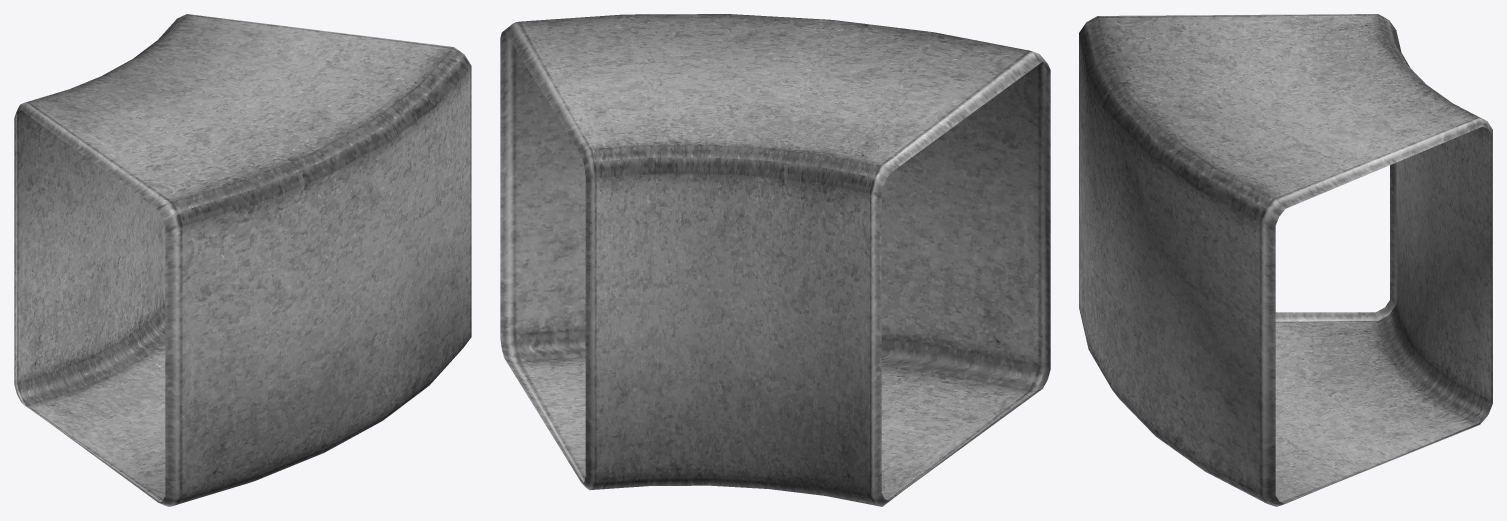
File: vent_shaft_exterior_turn_45.dae
3 renders of one model, left to right at view 1: azimuth 30°, elevation 25°; view 2: azimuth 150°, elevation 25°; view 3: azimuth 270°, elevation 25°, orthographic. The views are drawn at different scales.
Parts seen in each view (by area): view 1: turn_45; view 2: turn_45; view 3: turn_45.
Part boxes in pixels (x1,y1,x2,y2): turn_45: [14, 14, 471, 506]; turn_45: [500, 14, 1050, 506]; turn_45: [1079, 14, 1492, 506].
Size of the model in its own units: 2.35 by 1.71 by 2.1.
